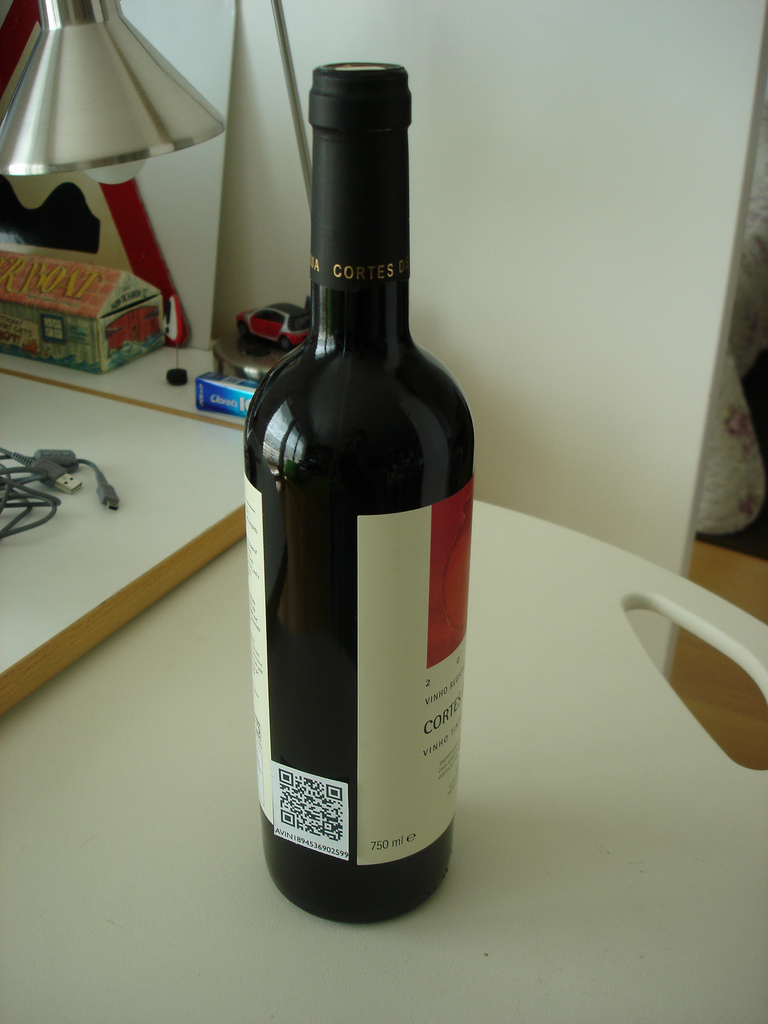QR-CODE: (279, 768, 341, 842)
